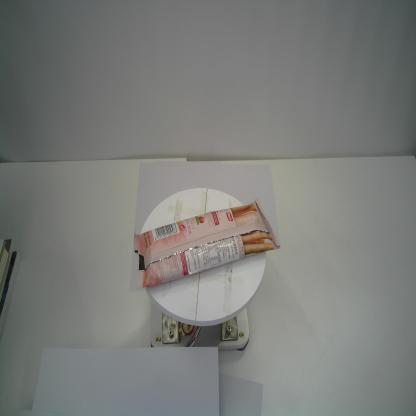Dessert: (128, 198, 281, 297)
